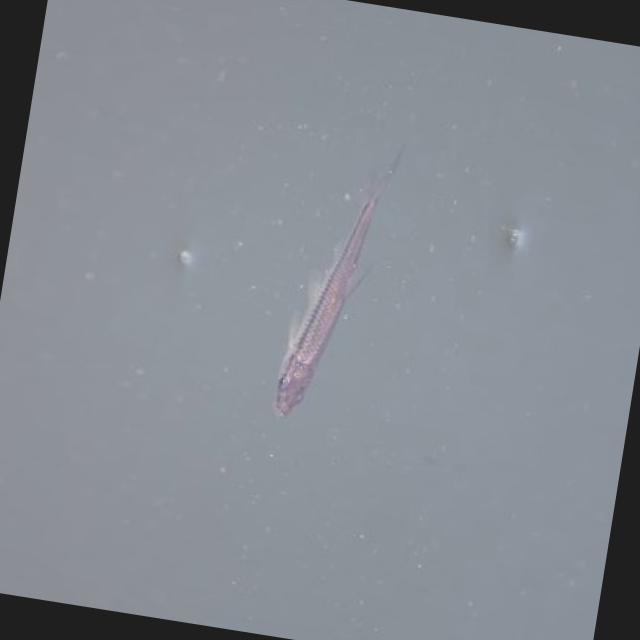Cakil Baligi: (258, 146, 406, 434)
